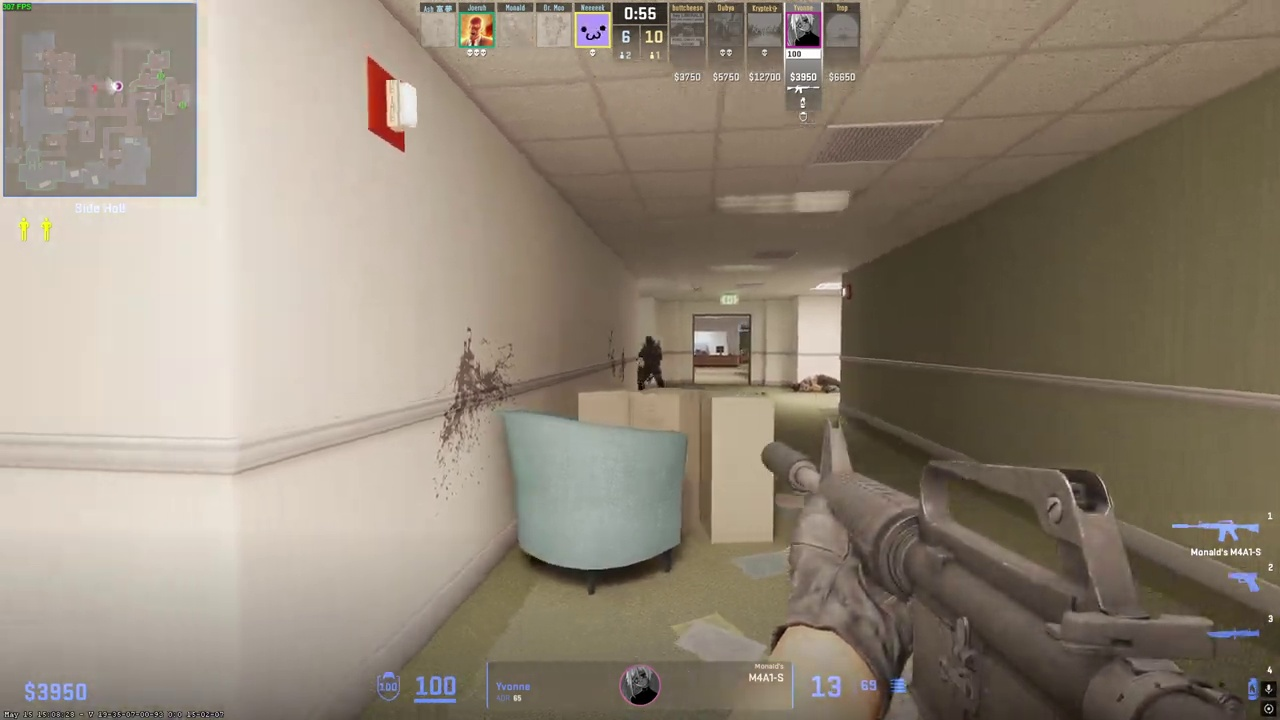CT: (636, 336, 665, 390)
